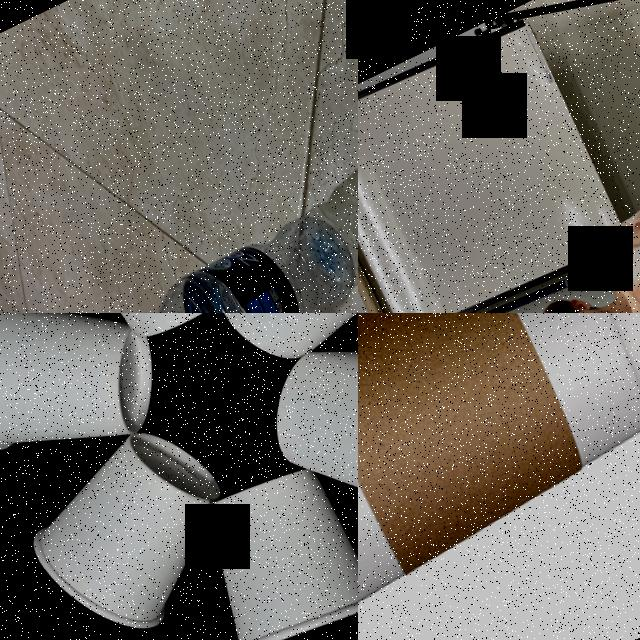bottle: (93, 181, 358, 313)
cup: (358, 313, 640, 640), (0, 405, 264, 640), (169, 448, 358, 640), (0, 313, 186, 495), (247, 313, 358, 564)
